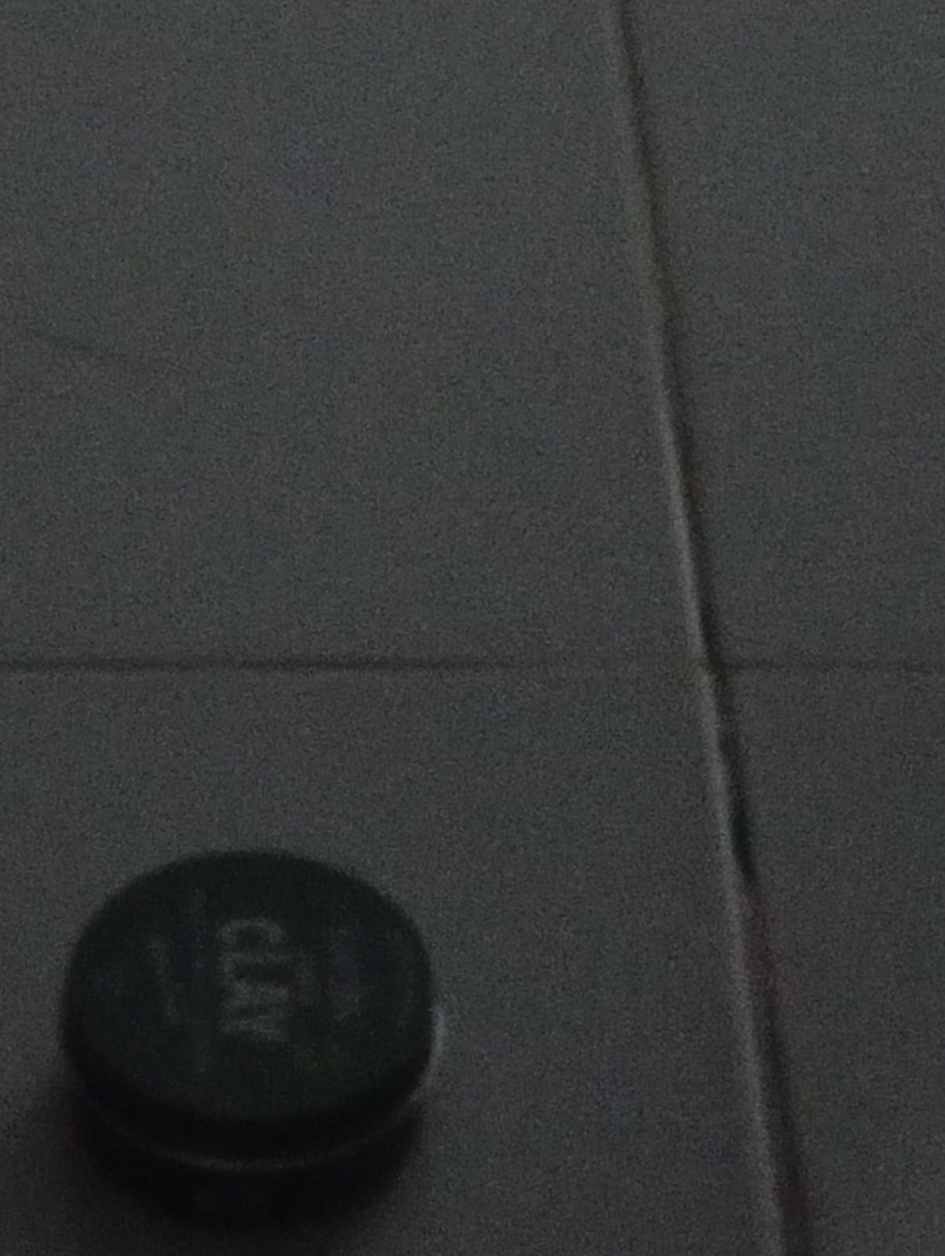Minyak_Rambut: (38, 820, 479, 1208)
